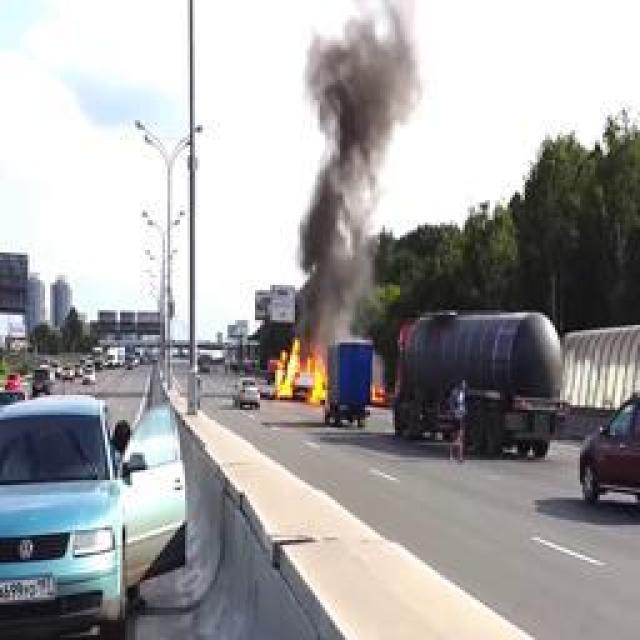Fire: (270, 338, 328, 404)
